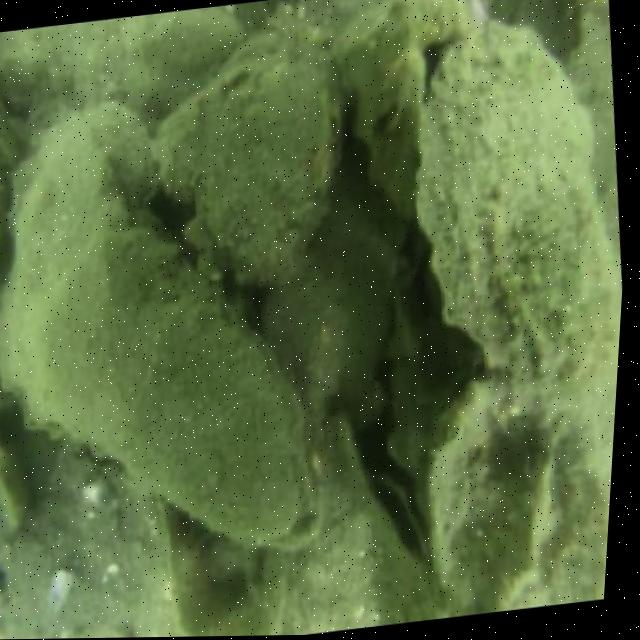Oyster-Closed: (160, 23, 349, 283), (265, 209, 392, 436)
Oyster-Indeterminate: (8, 191, 329, 555), (397, 18, 605, 413), (261, 426, 446, 632), (4, 431, 165, 639), (508, 405, 611, 610)
Oyster-Open: (371, 459, 439, 542)
